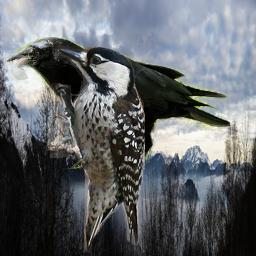Crow: (2, 37, 230, 169)
Woodpecker: (45, 45, 145, 252)
